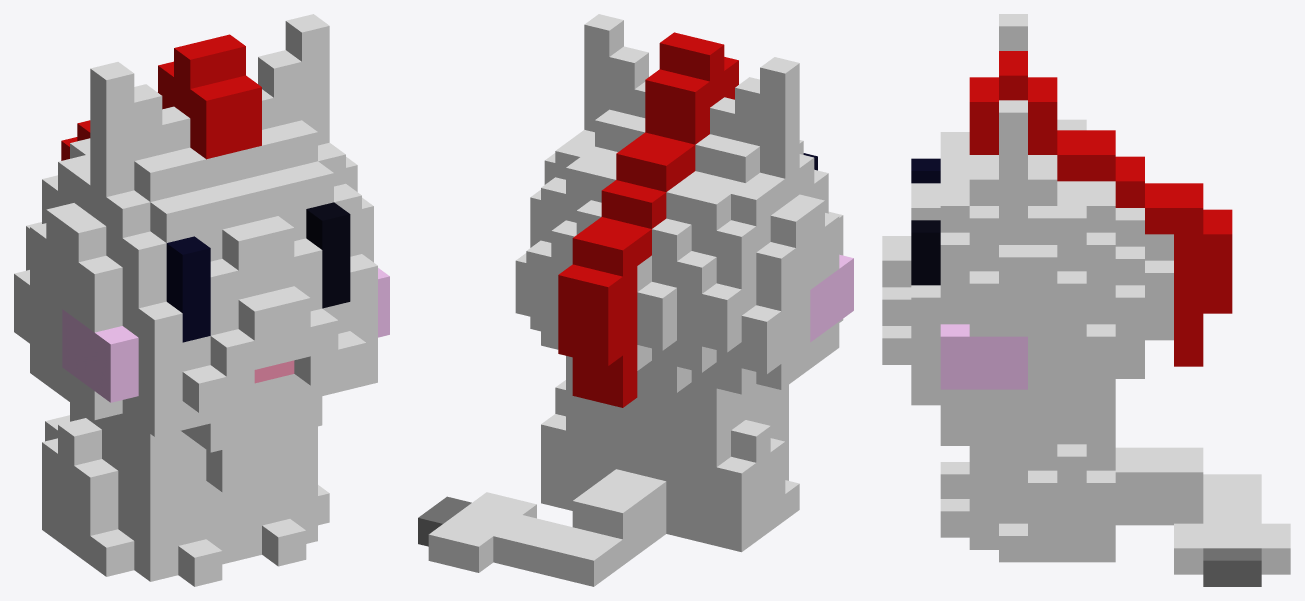
File: catWKnight.obj
3 renders of one model, left to right at view 1: azimuth 30°, elevation 25°; view 2: azimuth 150°, elevation 25°; view 3: azimuth 270°, elevation 25°, orthographic. The views are drawn at different scales.
Size of the model in its own units: 1.1 by 1.7 by 1.4.
1 material, 1 textured.
